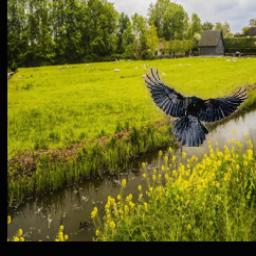Crow: (144, 68, 249, 148)
